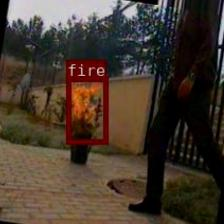fire: (66, 76, 107, 144)
